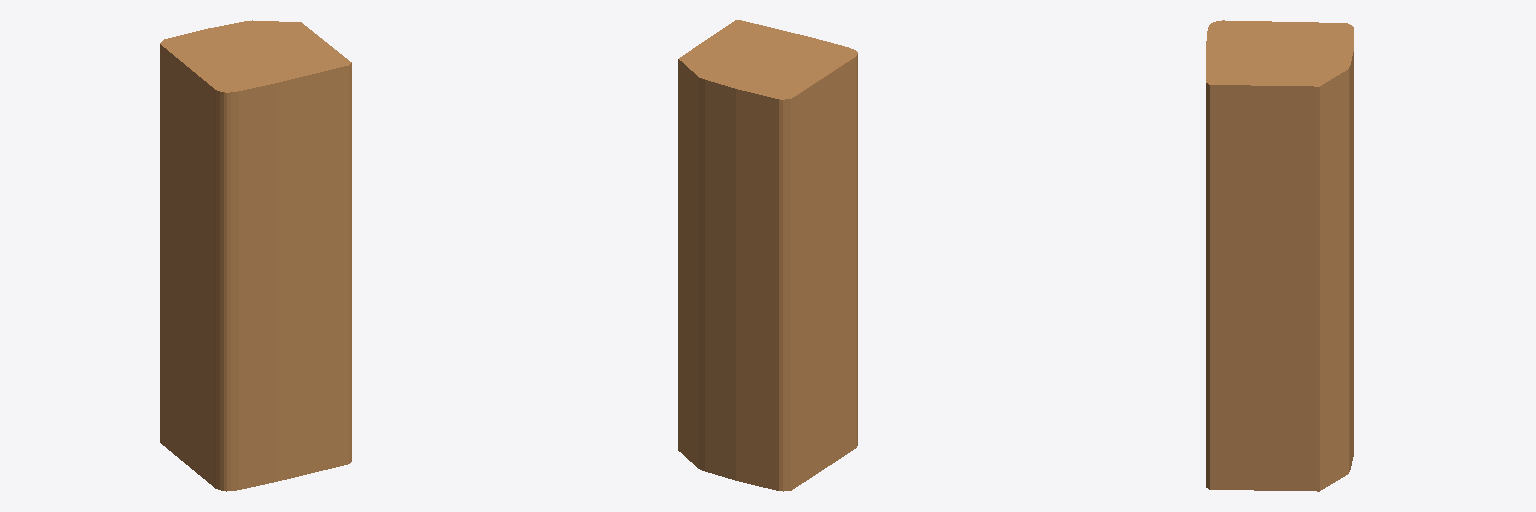
URDF robot description (drink_yykx):
<?xml version="1.0"?>
<robot name="drink_yykx">
  <material name="obj_color">
    <color rgba="0.8 0.6 0.4 1.0"/>
  </material>
  <link name="base">
    <inertial>
      <origin xyz="0 0 0" rpy="0 0 0"/>
      <mass value="0.1"/>
      <inertia ixx="0.001" ixy="0" ixz="0" iyy="0.001" iyz="0" izz="0.001"/>
    </inertial>
    <visual>
      <origin xyz="0 0 0" rpy="0 0 0"/>
      <geometry><mesh filename="scan.obj" scale="1 1 1"/></geometry>
      <material name="obj_color"/>
    </visual>
    <collision>
      <origin xyz="0 0 0" rpy="0 0 0"/>
      <geometry><mesh filename="scan.obj" scale="1 1 1"/></geometry>
    </collision>
  </link>
</robot>

--- What the picture shows (computed from the rendered views, not written in the file) ---
The picture shows the robot from 3 angles, left to right: view 1: azimuth 30°, elevation 25°; view 2: azimuth 150°, elevation 25°; view 3: azimuth 270°, elevation 25°; orthographic projection.
Model drink_yykx with 1 links and 0 joints (none), rooted at base, posed every joint at zero.
Visible links, largest first — view 1: base; view 2: base; view 3: base.
Boxes of the visible links, <box> form: base: <box>160,20,351,491</box>; base: <box>678,20,857,491</box>; base: <box>1206,20,1353,491</box>.
Size in the robot's own frame: 0.07 by 0.0663 by 0.2 metres.
1 mesh visuals loaded from 1 distinct referenced files (1 OBJ).
